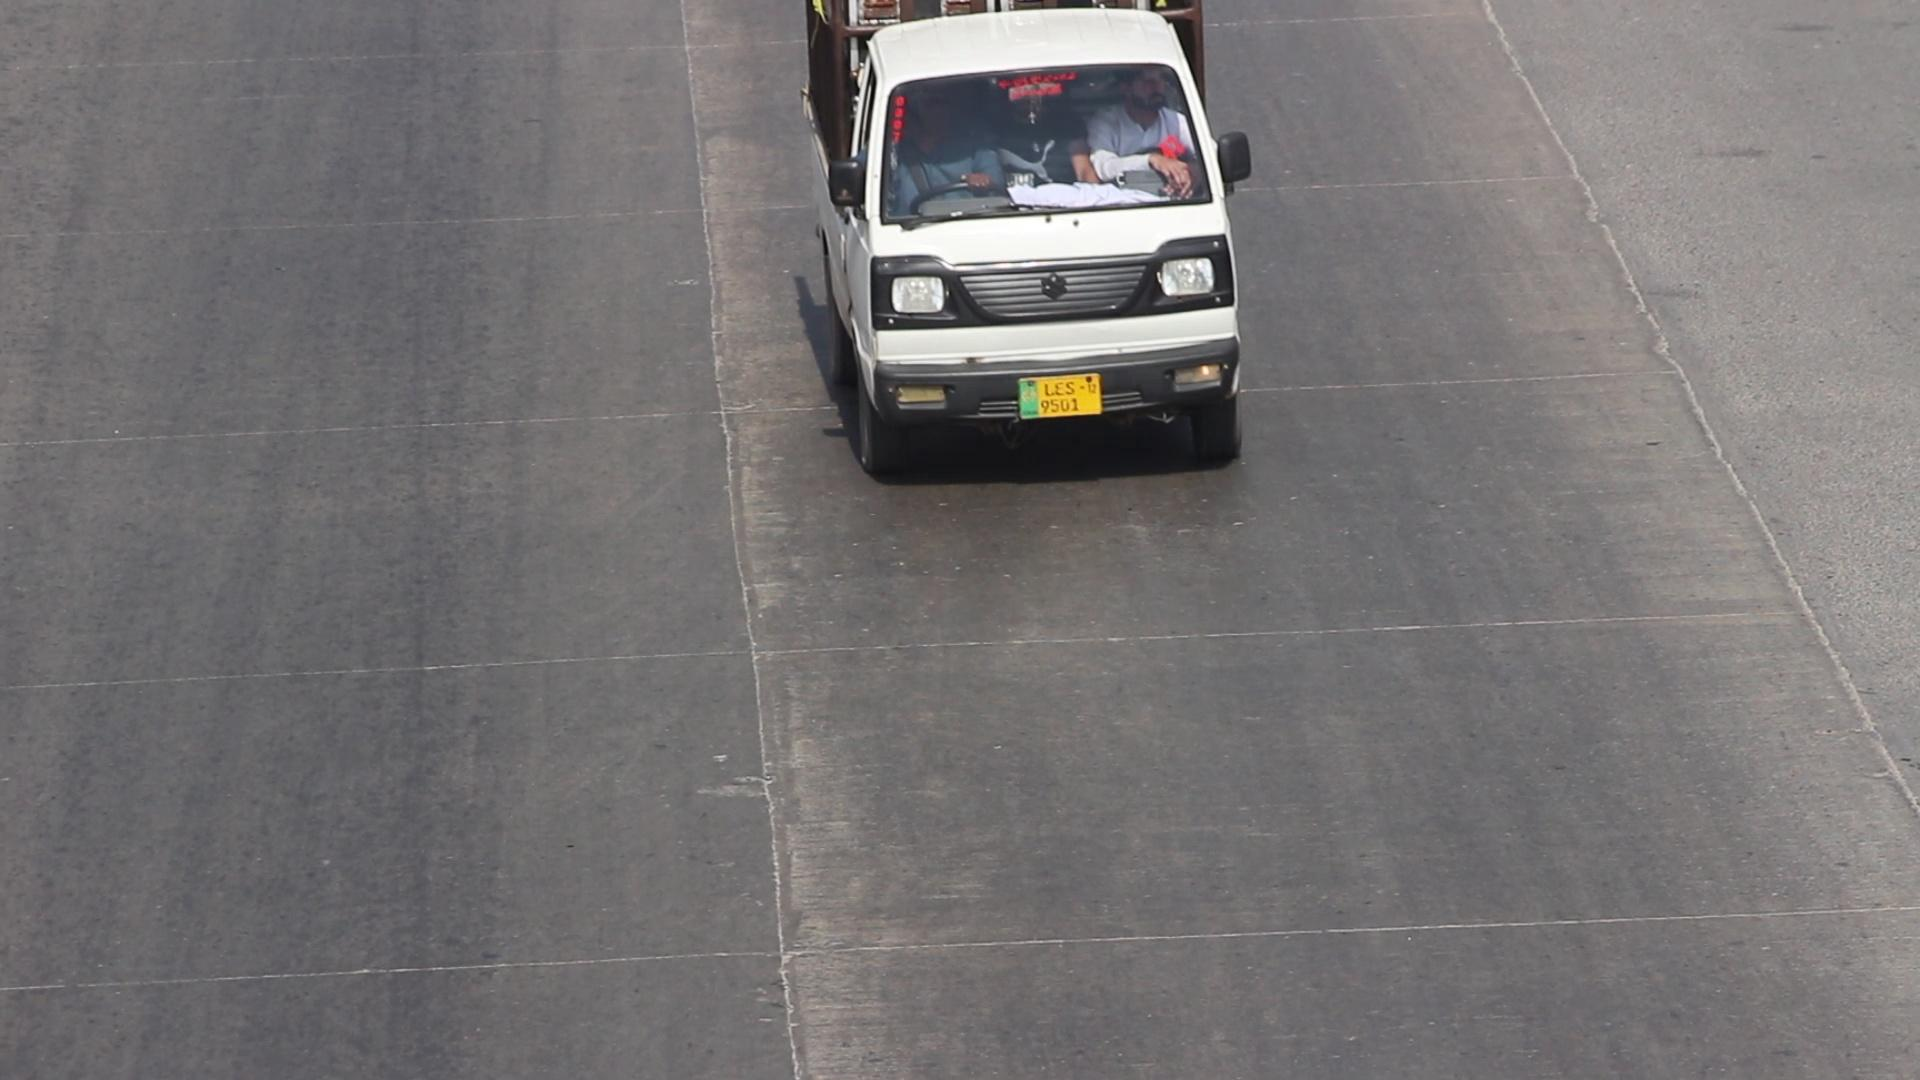windshield: (861, 46, 1230, 229)
